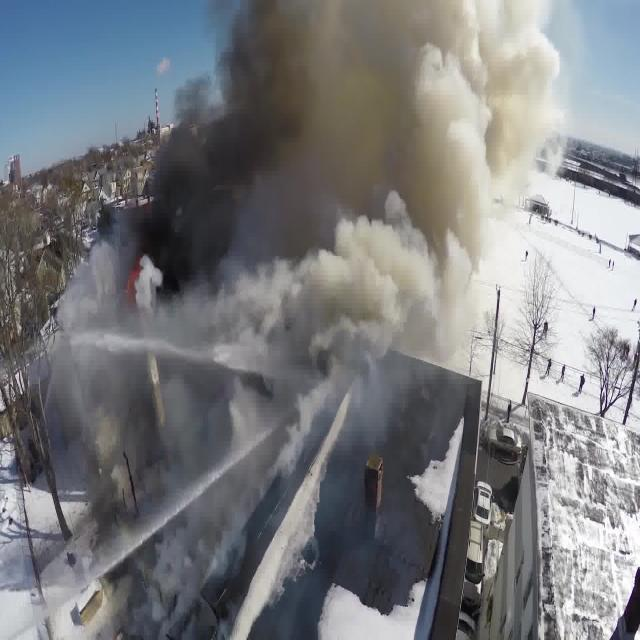Smoke: (104, 0, 556, 549)
